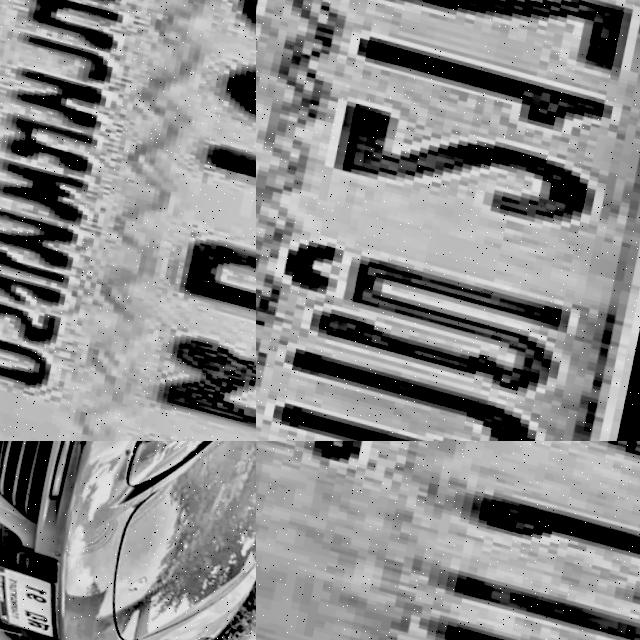license-plate: (256, 0, 640, 441), (0, 0, 256, 441), (256, 441, 640, 640), (0, 556, 79, 640)
